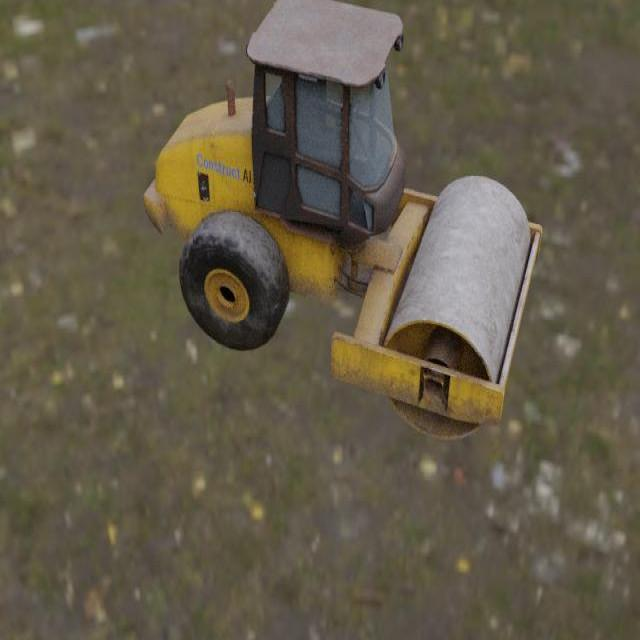Roller: (143, 0, 542, 441)
